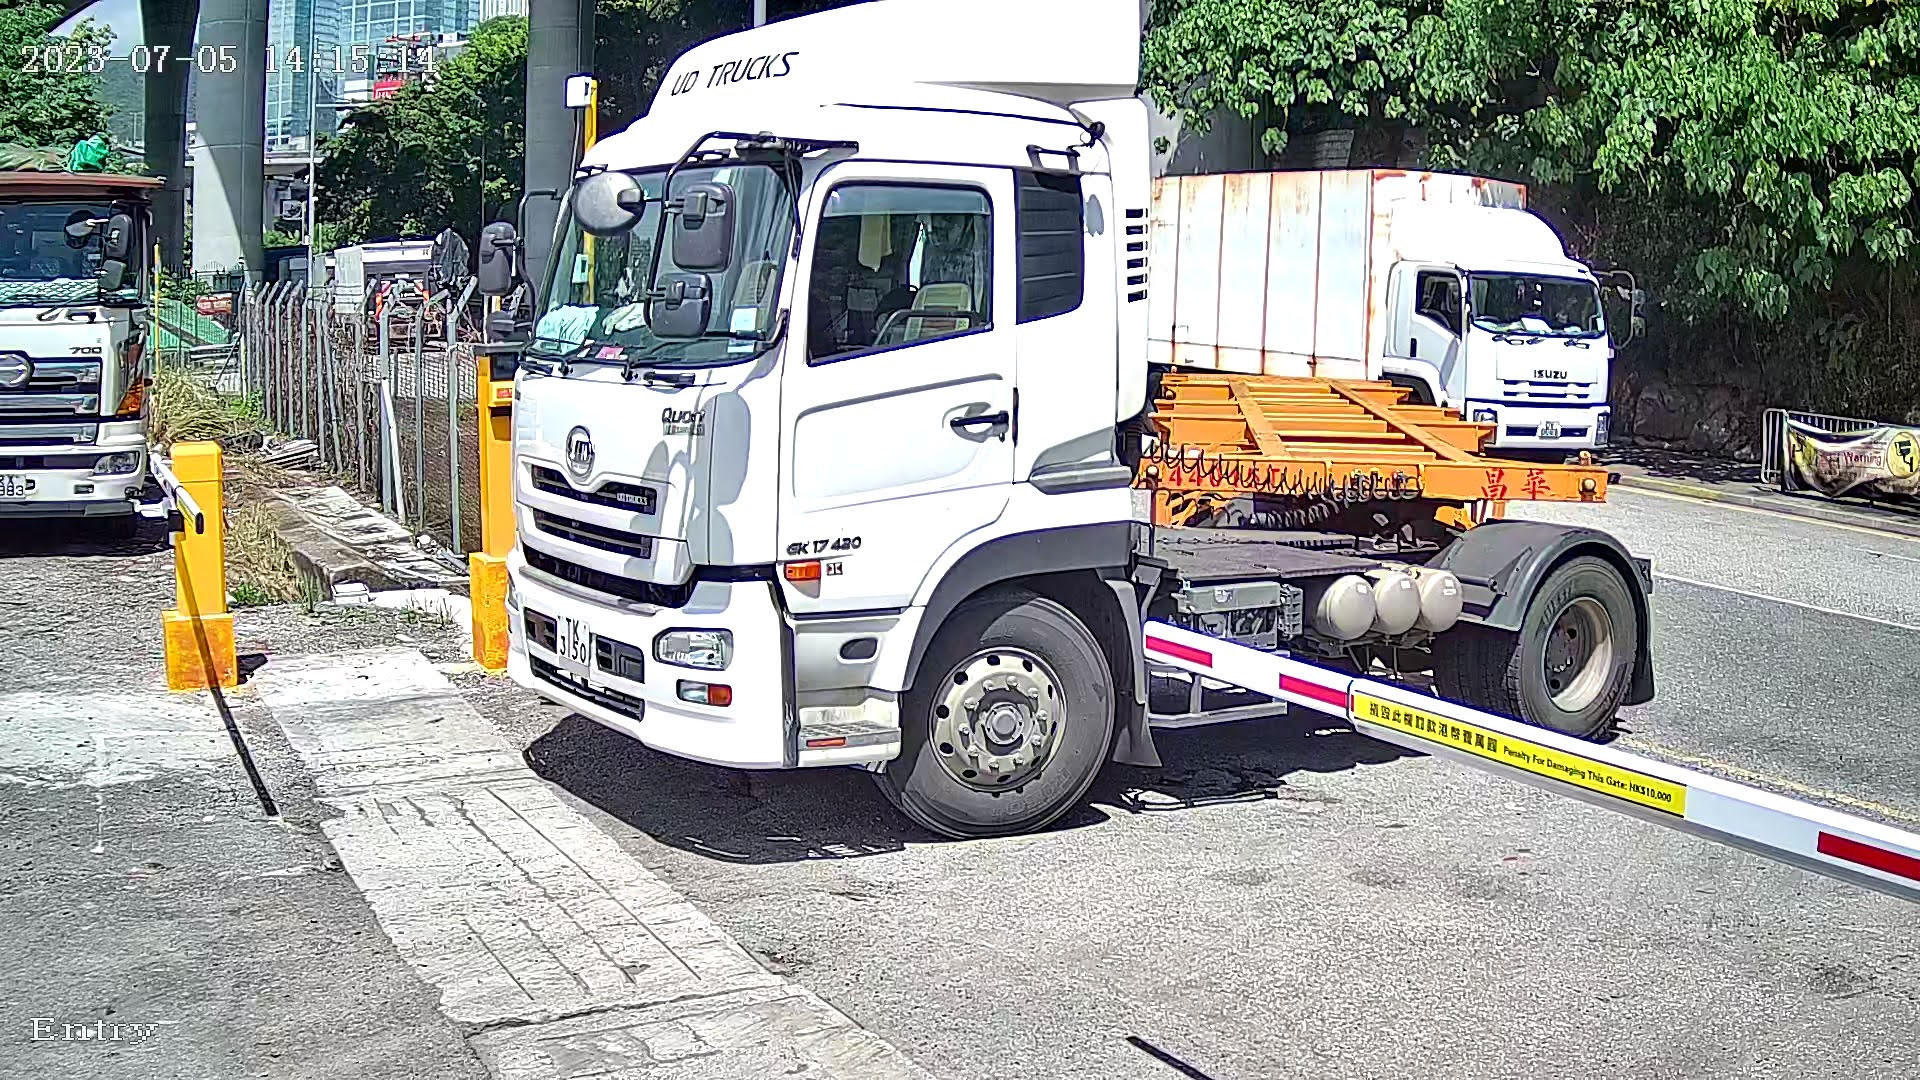tractor: (429, 1, 1695, 848)
